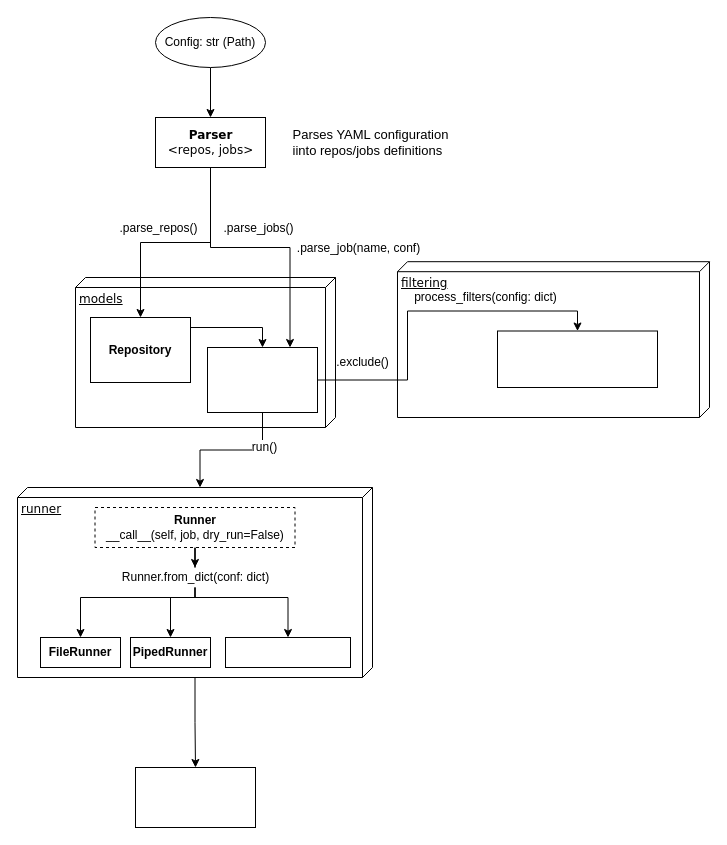
The diagram is 727 pixels wide and 845 high, and some of its shapes have lost their labels. Here are the shapes that lost their labels. From the top down, the centre of each, then its label:
At (x=262, y=379): "Job repo, tags, runner, exclude, conf".
At (x=577, y=359): "ExclusionSettings .map(name, *paths) .mapdefault(k, *defaults)".
At (x=287, y=652): "ZFSSnapshotRunner".
At (x=195, y=797): "Executor run(args, cwd)".
